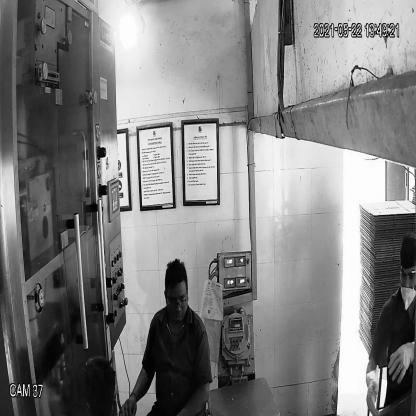goggles: (162, 289, 190, 311)
